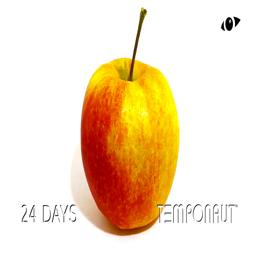Apple Ripe: (81, 2, 181, 231)
